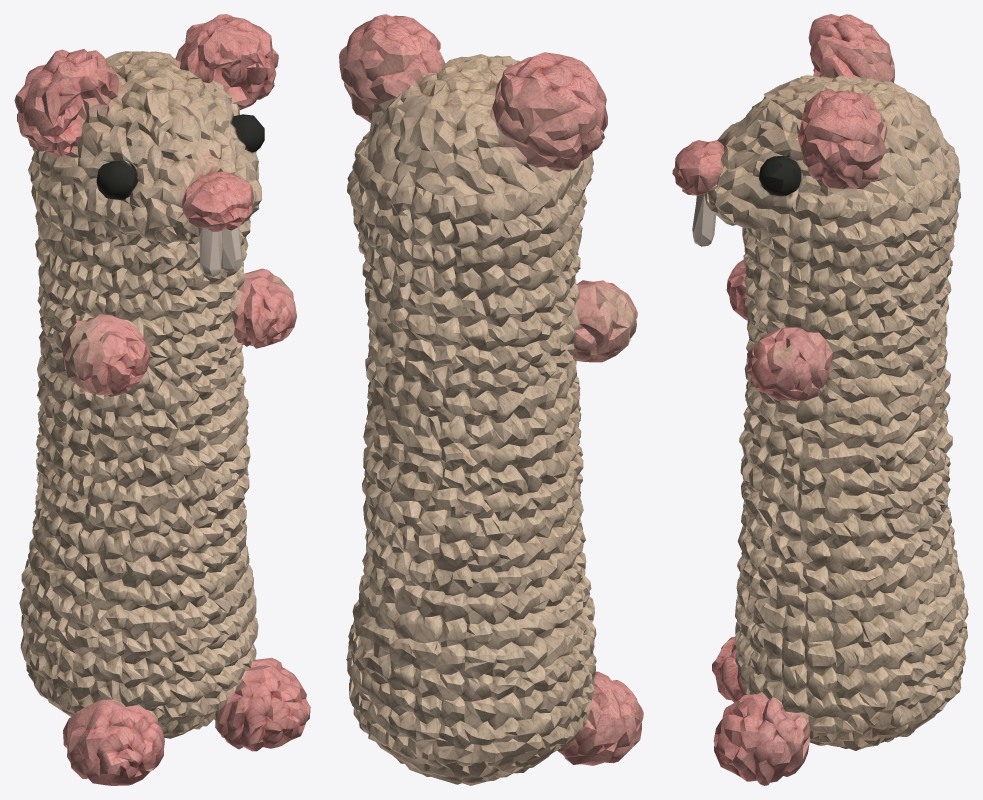
Rendered from lang.glb.
The picture shows the model from 3 angles, left to right: view 1: azimuth 30°, elevation 25°; view 2: azimuth 150°, elevation 25°; view 3: azimuth 270°, elevation 25°; orthographic projection. The views are drawn at different scales.
Bounding box in the file's own units: 0.7115 × 1.9 × 0.7436.
1 material, 1 textured.
